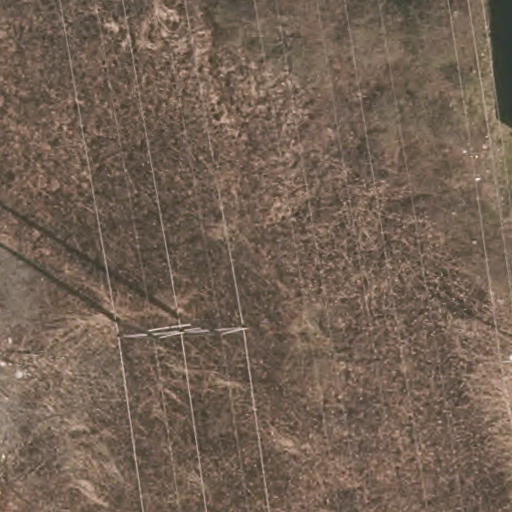DT: (111, 311, 254, 353)
